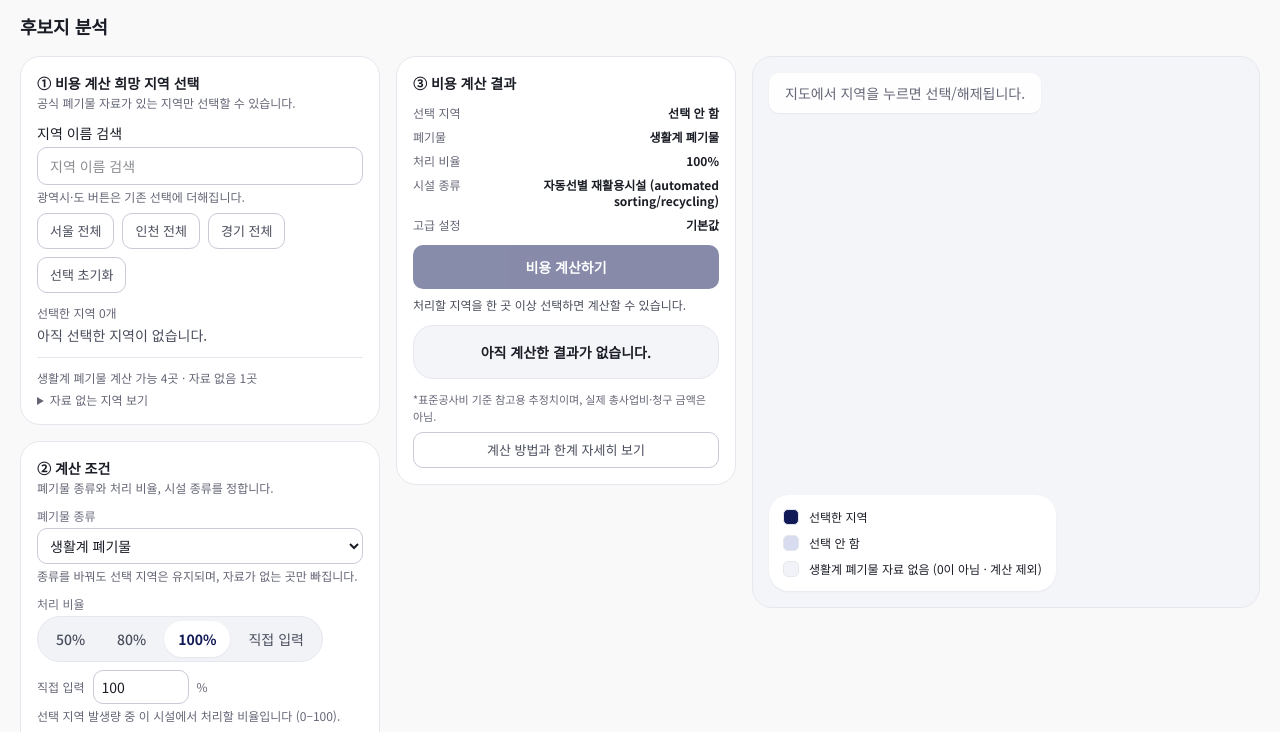
Test: setup workflow › offers only calculable regions, disambiguated by metro prefix and never by code
Focus the dropdown with test id "facility-cost-region-search" at x=200, y=166, box [37, 147, 363, 185]
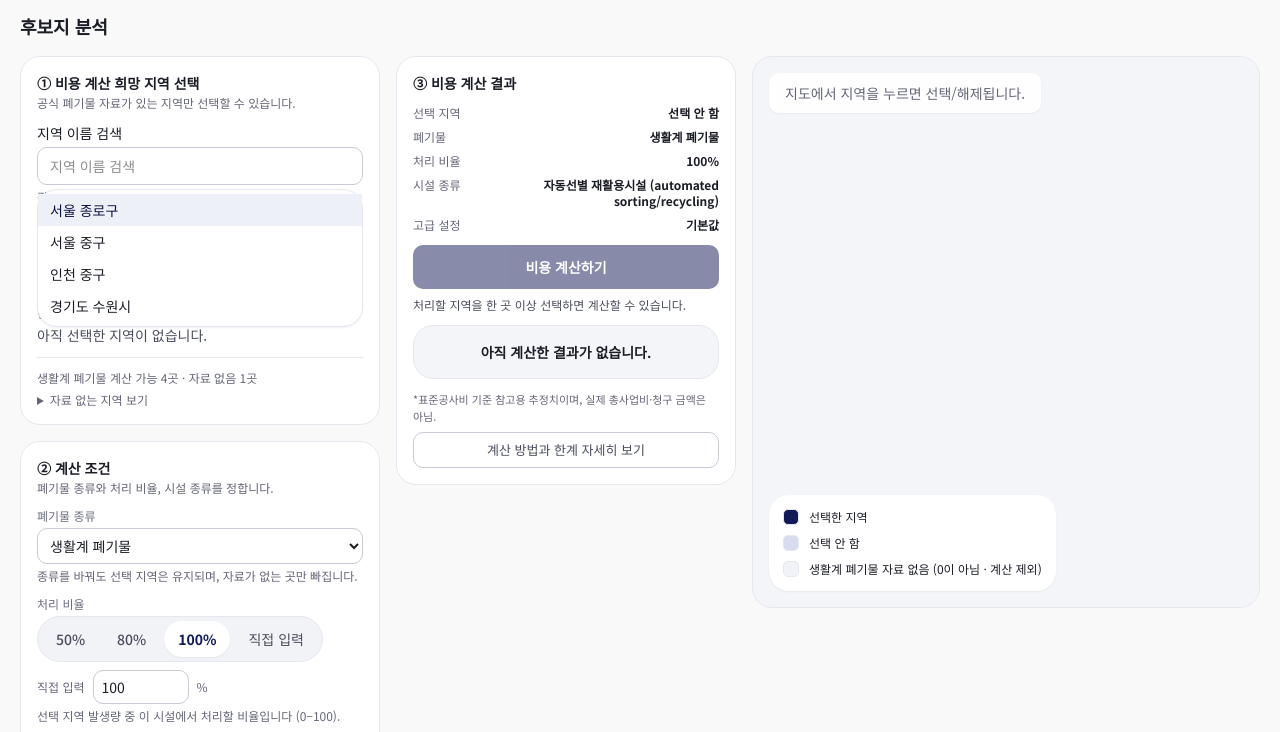
Select "건설 폐기물" in the dropdown with test id "facility-cost-waste-stream" at x=200, y=546, box [37, 528, 363, 564]
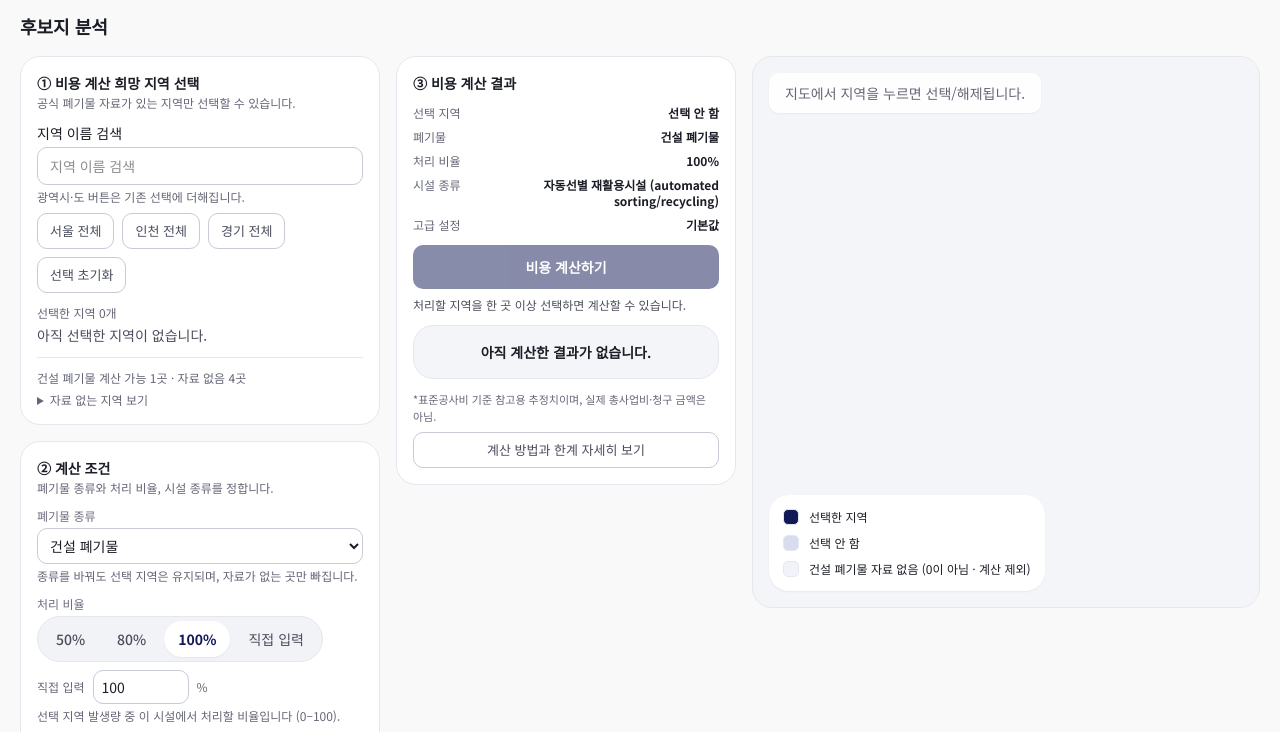
Focus the dropdown with test id "facility-cost-region-search" at x=200, y=166, box [37, 147, 363, 185]
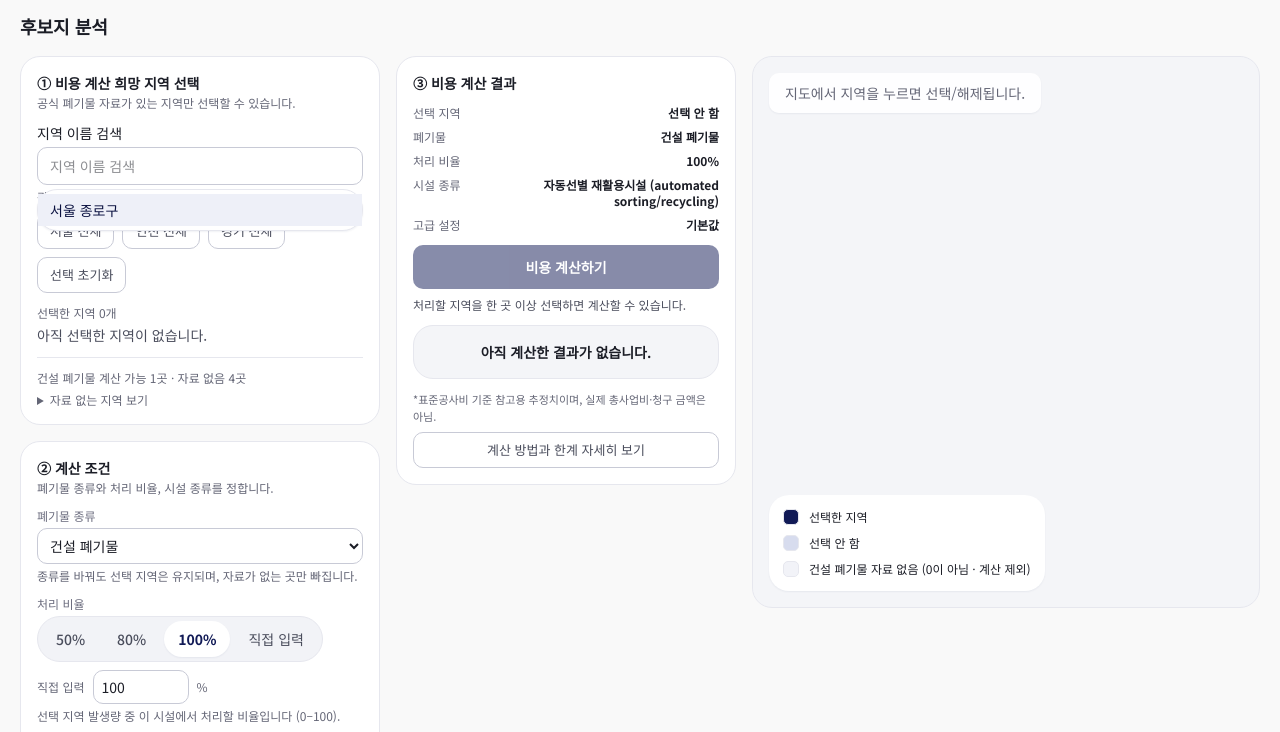
expect the number of options with test id "facility-cost-region-option" is 1: met, box [38, 194, 362, 226]
expect the list with test id "facility-cost-region-options" reads "서울 종로구": met, box [50, 200, 118, 220]
